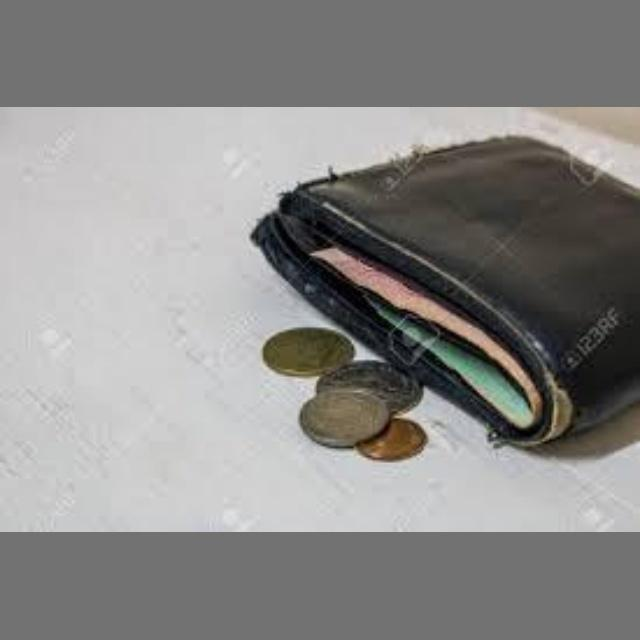Wallet: (227, 115, 640, 445)
